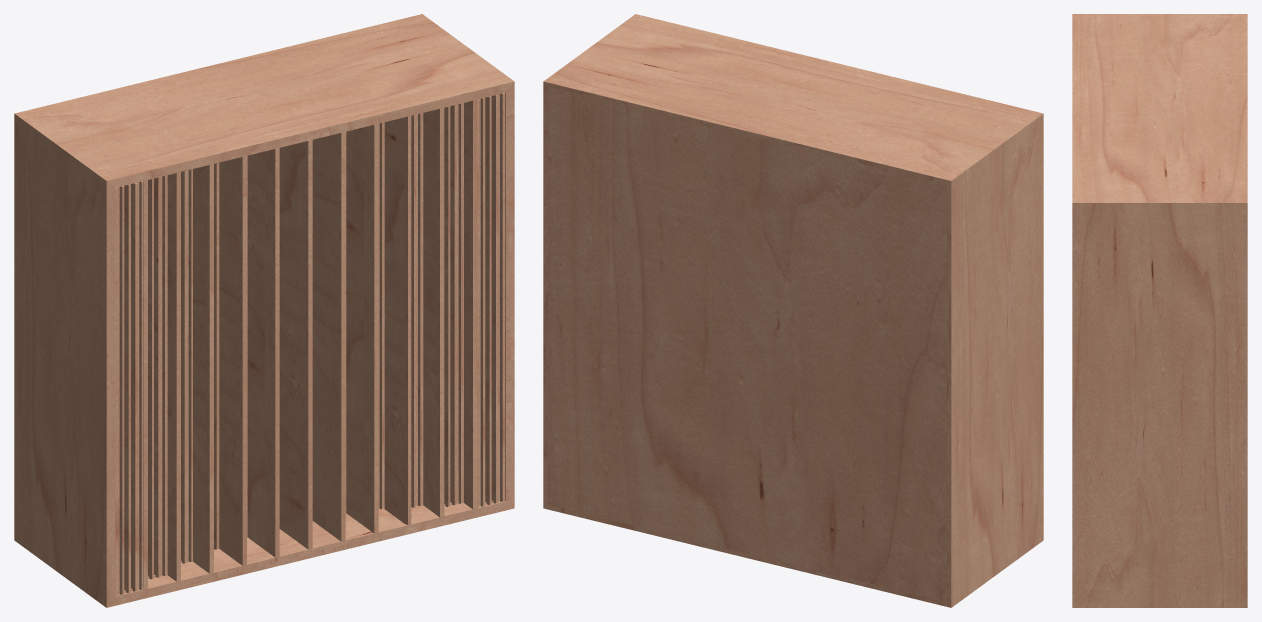
Rendered from RQS350FX.glb.
3 renders of one model, left to right at view 1: azimuth 30°, elevation 25°; view 2: azimuth 150°, elevation 25°; view 3: azimuth 270°, elevation 25°, orthographic. The views are drawn at different scales.
Parts seen in each view (by area): view 1: RQS350FX; view 2: RQS350FX; view 3: RQS350FX.
Part boxes in pixels (left/top/right/bottom): RQS350FX: left=14, top=14, right=514, bottom=607; RQS350FX: left=543, top=14, right=1043, bottom=607; RQS350FX: left=1072, top=14, right=1247, bottom=607.
Bounding box in the file's own units: 23.62 × 23.62 × 9.25.
1 material, 1 textured.
